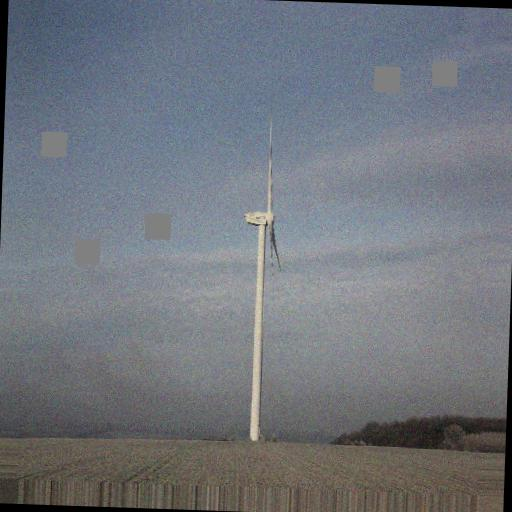wind turbine: (239, 114, 282, 443)
